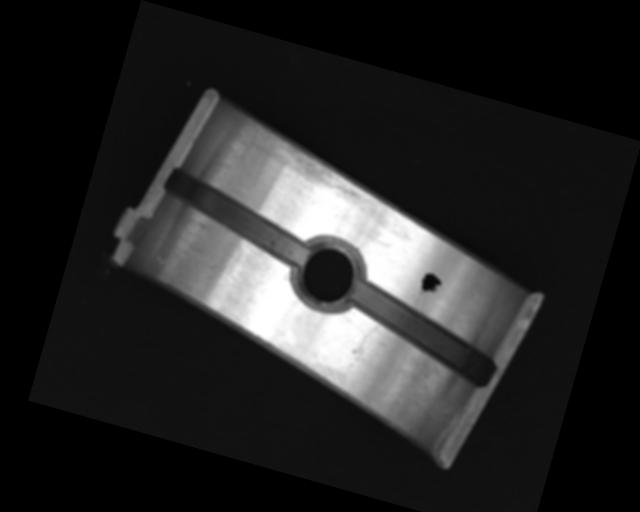blot: (417, 269, 445, 300)
bruise: (204, 262, 224, 274), (152, 253, 167, 266)
gap: (338, 278, 507, 387), (153, 166, 321, 268)
hole: (285, 229, 370, 316)
nick: (346, 318, 380, 371)
scratch: (238, 122, 390, 211)
